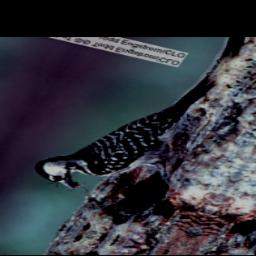Woodpecker: (22, 57, 232, 208)
